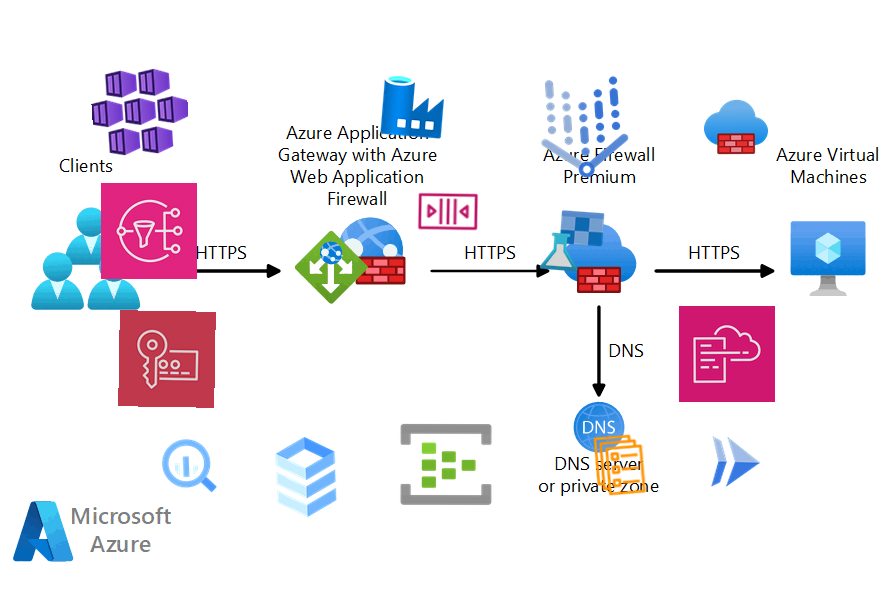aws_amazon_simple_notification_service: (100, 182, 198, 280)
aws_cloudformation: (678, 305, 776, 403)
aws_elastic_container_service_service: (585, 430, 655, 500)
aws_key_management_service: (118, 310, 216, 408)
aws_simple_queue_service_queue: (415, 178, 481, 244)
azure_data_factories: (378, 71, 448, 141)
azure_event_hubs: (397, 415, 495, 513)
azure_firewalls: (703, 94, 769, 160)
azure_kubernetes_services: (89, 60, 191, 162)
azure_machine_learning_studio_workspaces: (537, 206, 607, 276)
gcp_bigquery: (155, 432, 223, 500)
gcp_cloud_run: (702, 429, 768, 495)
gcp_cloud_sql: (255, 426, 357, 528)
gcp_vertex_ai: (515, 59, 653, 197)
